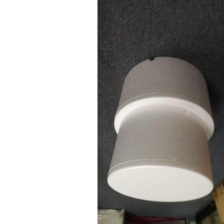foam_box: (103, 102, 217, 207), (111, 52, 218, 148)
